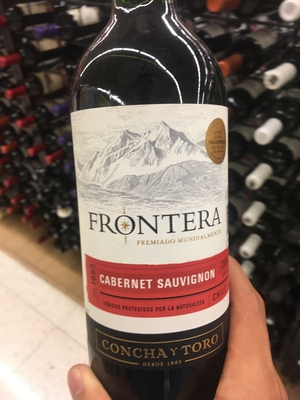frontera cabernet sauvignon: (66, 10, 266, 392)
